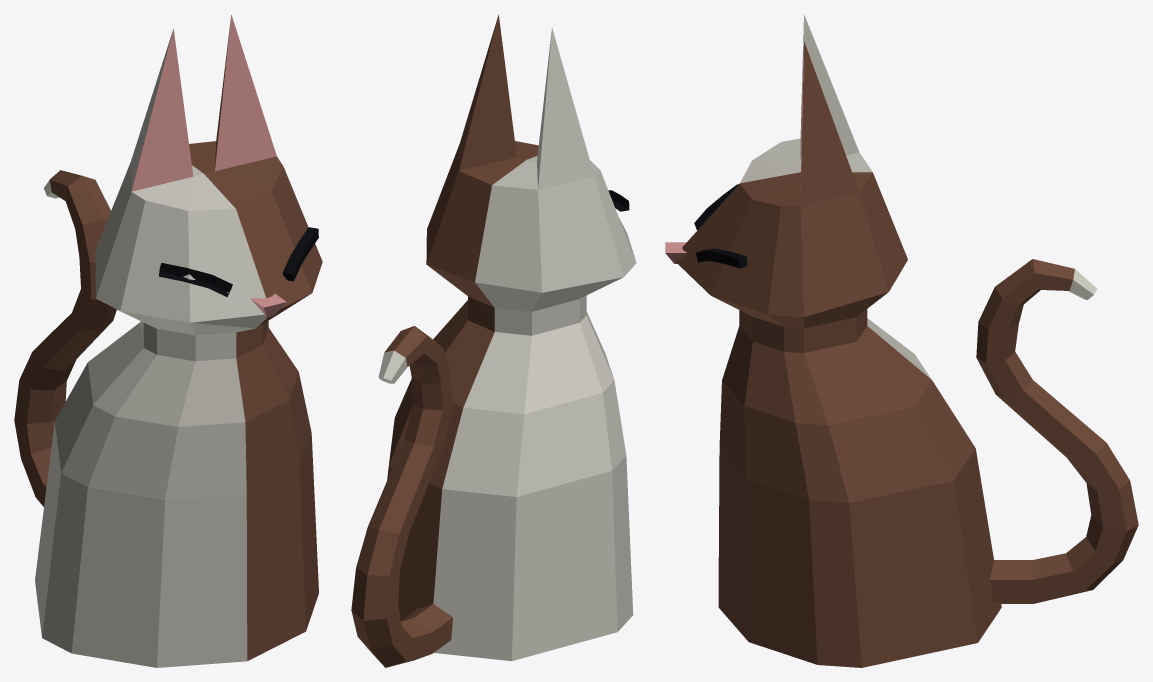
The model's file is cat_twotone.fbx.
The picture shows the model from 3 angles, left to right: view 1: azimuth 30°, elevation 25°; view 2: azimuth 150°, elevation 25°; view 3: azimuth 270°, elevation 25°; orthographic projection. The views are drawn at different scales.
Parts seen in each view (by area): view 1: cat, tail; view 2: cat, tail; view 3: cat, tail.
Boxes of the visible parts, x1,y1,x2,y2 form: cat: (35,15,322,667); tail: (14,170,116,506); cat: (387,14,636,661); tail: (351,326,452,667); cat: (665,14,1001,667); tail: (976,259,1138,603).
Bounding box in the file's own units: 0.53 × 1.18 × 0.8752.
